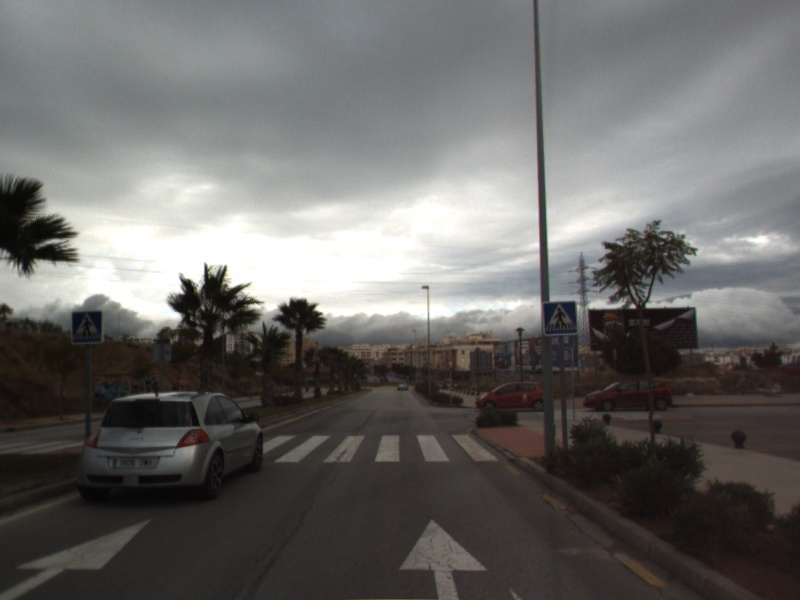STRAIGHT: (1, 514, 157, 600), (396, 516, 490, 600)
